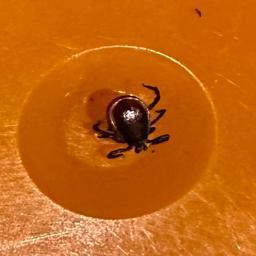Ixodes scapularis: (92, 82, 171, 159)
